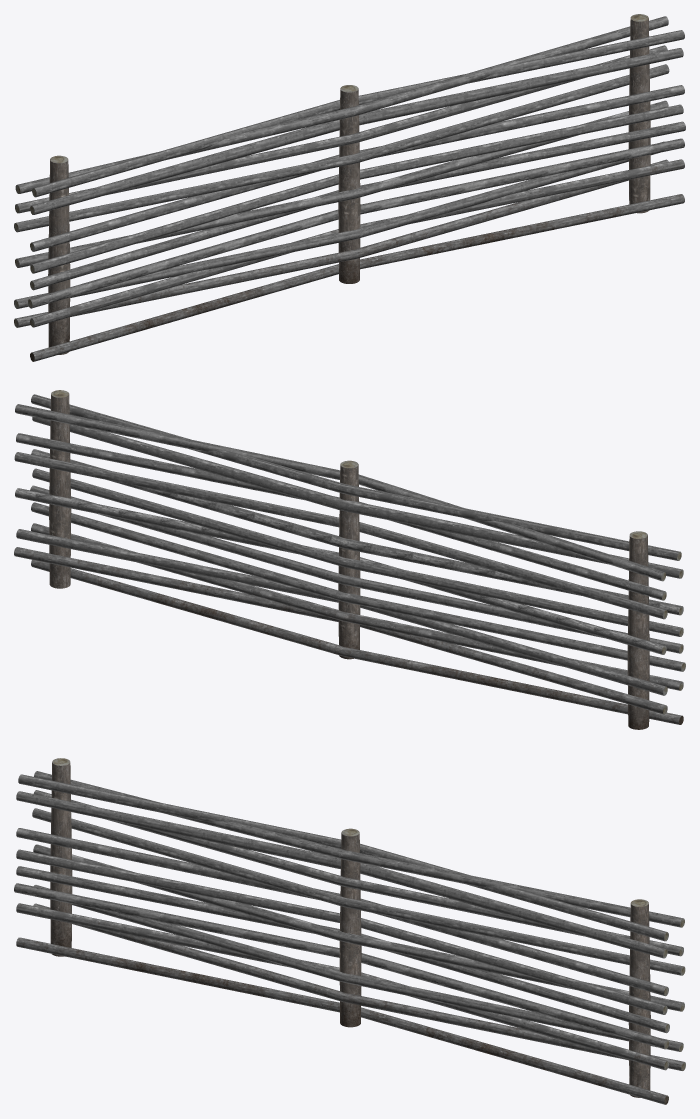
Rendered from FarmFence_Sparse_mdl.fbx.
3 views of the same model, one above another, from view 1: azimuth 30°, elevation 25°; view 2: azimuth 150°, elevation 25°; view 3: azimuth 330°, elevation 25° (orthographic).
Visible parts, largest first — view 1: FarmFence_Sparse_LOD0; view 2: FarmFence_Sparse_LOD0; view 3: FarmFence_Sparse_LOD0.
Boxes of the visible parts, left/top/right/bottom form: FarmFence_Sparse_LOD0: left=14, top=14, right=685, bottom=361; FarmFence_Sparse_LOD0: left=14, top=390, right=685, bottom=729; FarmFence_Sparse_LOD0: left=14, top=758, right=685, bottom=1104.
Size of the model in its own units: 359 by 101 by 19.81.
